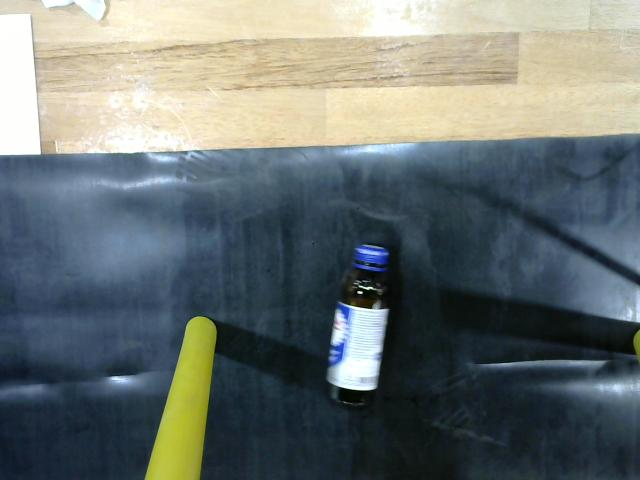glass: (322, 243, 393, 409)
